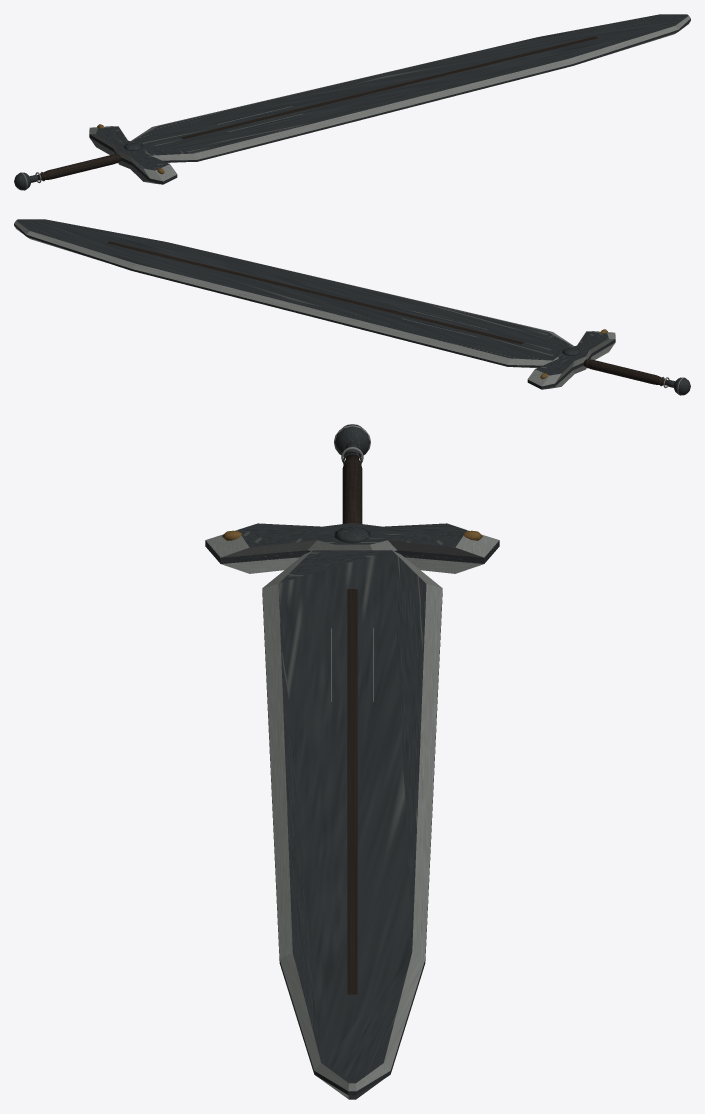
Rendered from wolf-greatsword.glb.
3 views of the same model, one above another, from view 1: azimuth 30°, elevation 25°; view 2: azimuth 150°, elevation 25°; view 3: azimuth 270°, elevation 25° (orthographic). The views are drawn at different scales.
Parts seen in each view (by area): view 1: wolf_greatsword; view 2: wolf_greatsword; view 3: wolf_greatsword.
Part boxes in pixels (bbox=[...]): wolf_greatsword: bbox=[14, 14, 690, 190]; wolf_greatsword: bbox=[14, 219, 690, 395]; wolf_greatsword: bbox=[205, 424, 499, 1099].
Size of the model in its own units: 2.25 by 0.06 by 0.424.
1 material, 1 textured.
